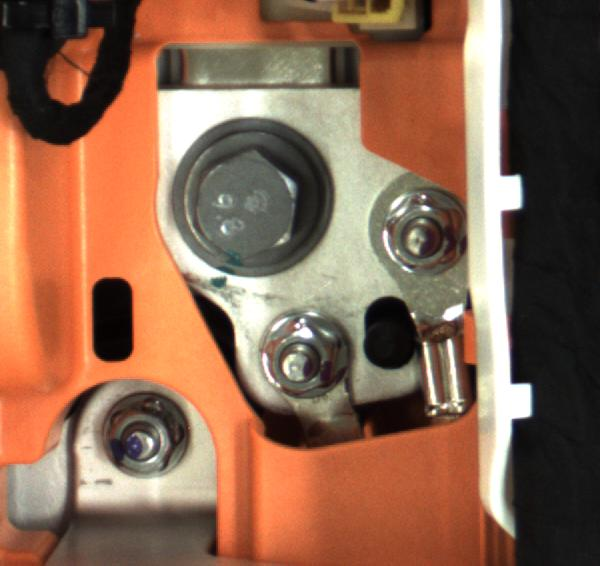nut_b: (155, 118, 342, 280)
screw_s: (373, 177, 468, 286), (253, 305, 350, 399), (105, 384, 194, 480)
